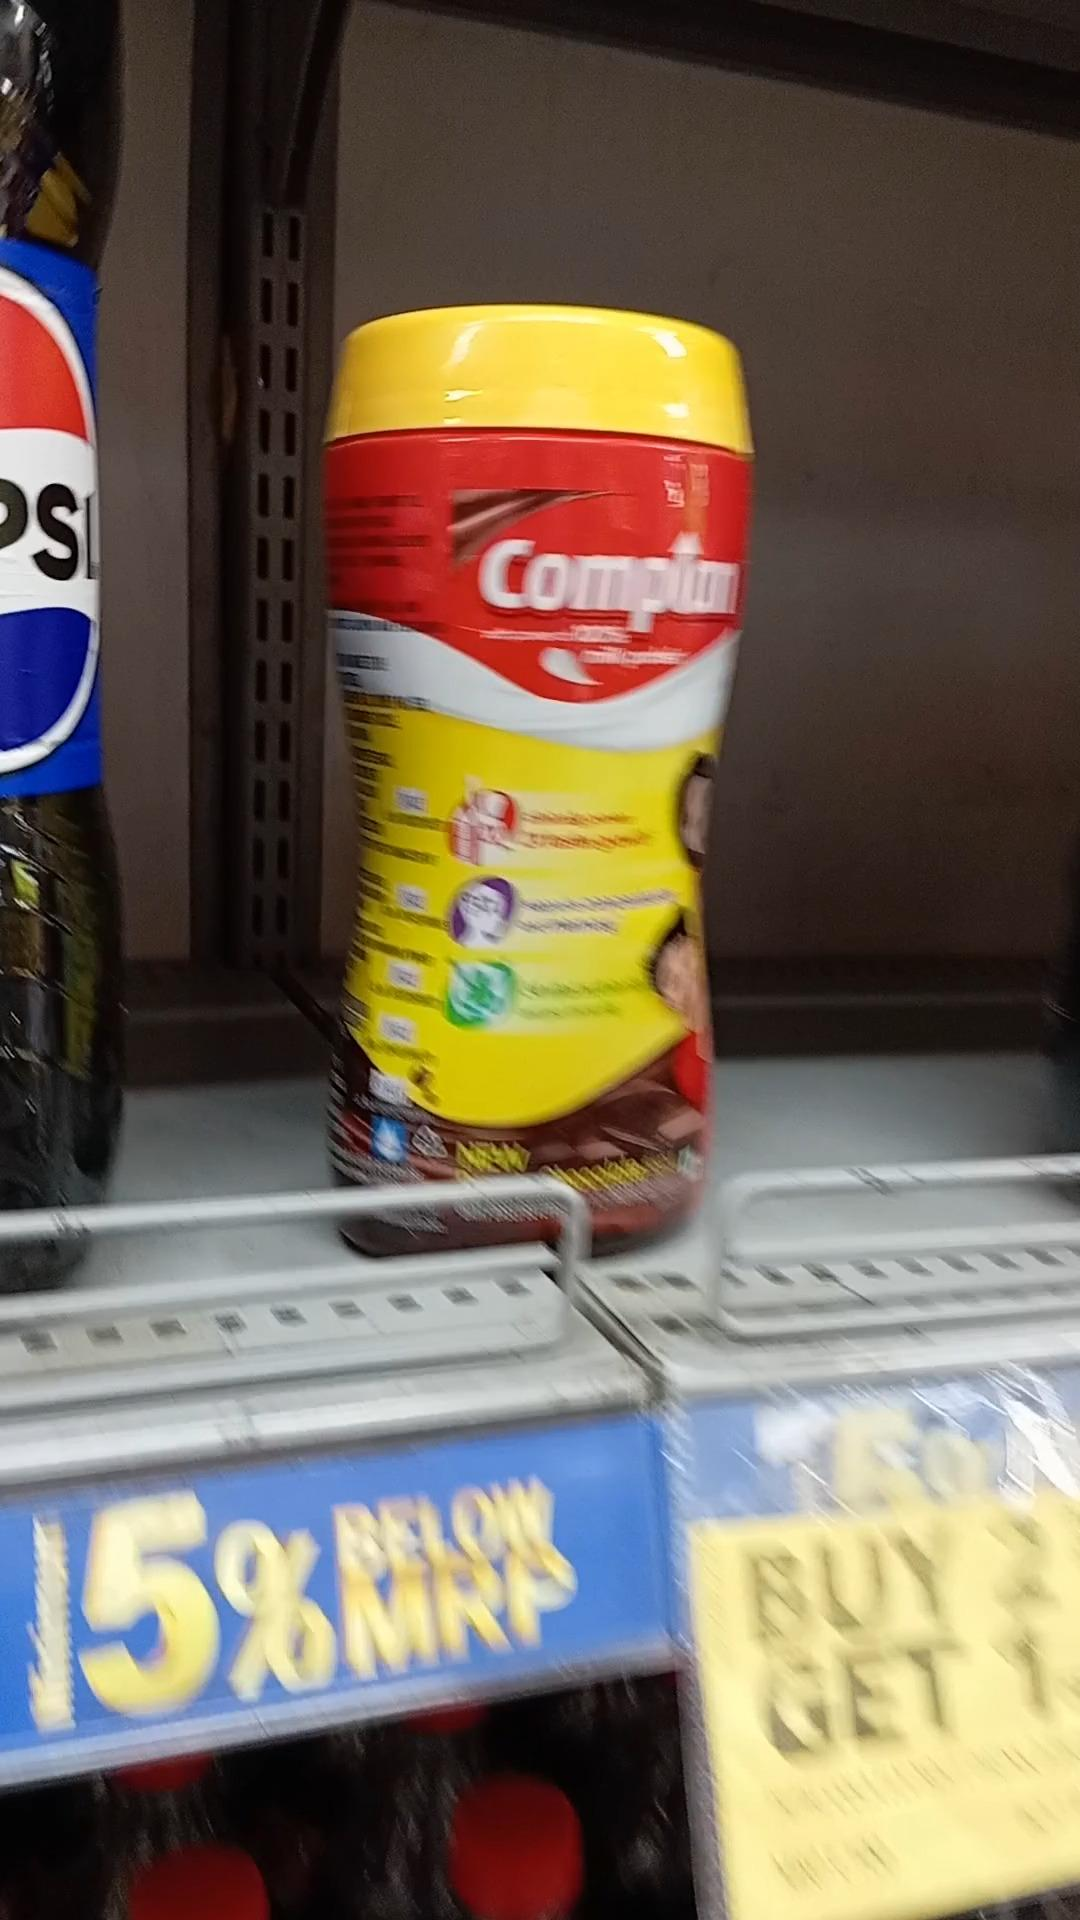COMPLAN_CHOCOLATE_500_GMS_JAR: (320, 307, 727, 1254)
